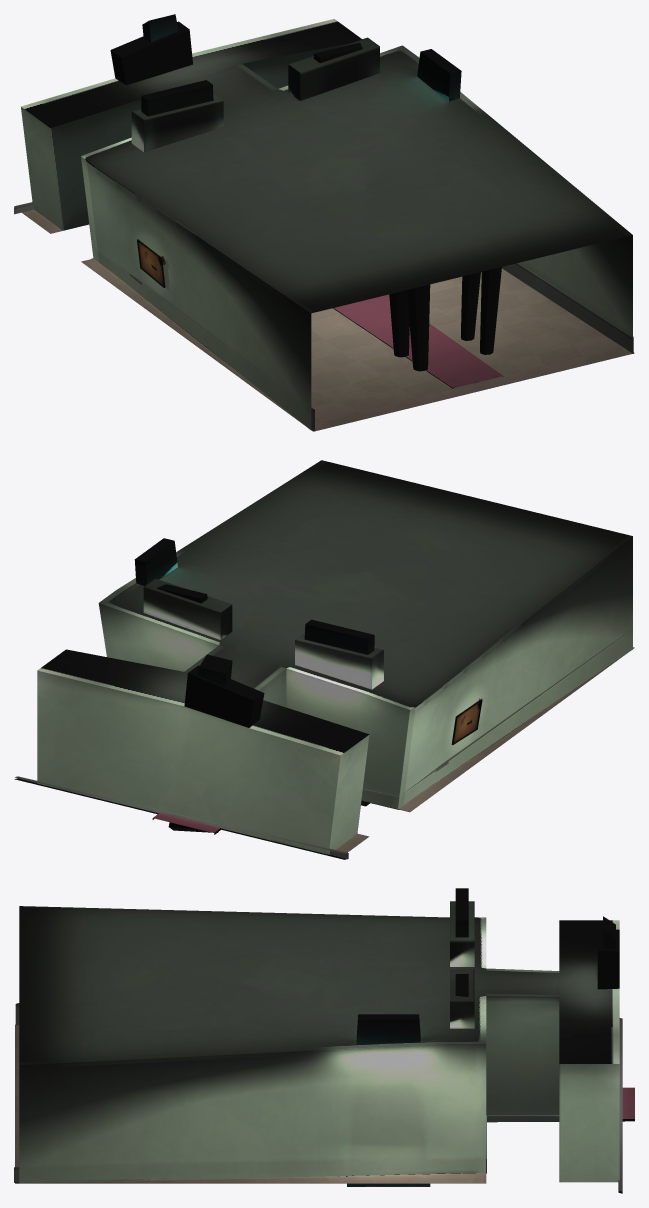
File: lobbyMenu.fbx
3 views of the same model, one above another, from view 1: azimuth 30°, elevation 25°; view 2: azimuth 150°, elevation 25°; view 3: azimuth 270°, elevation 25° (orthographic). The views are drawn at different scales.
Parts seen in each view (by area): view 1: polySurface16; view 2: polySurface16; view 3: polySurface16.
Part boxes in pixels (x1,y1,x2,y2): polySurface16: (14, 14, 634, 431); polySurface16: (14, 460, 634, 859); polySurface16: (14, 888, 634, 1193).
Size of the model in its own units: 30.84 by 16.33 by 47.59.
